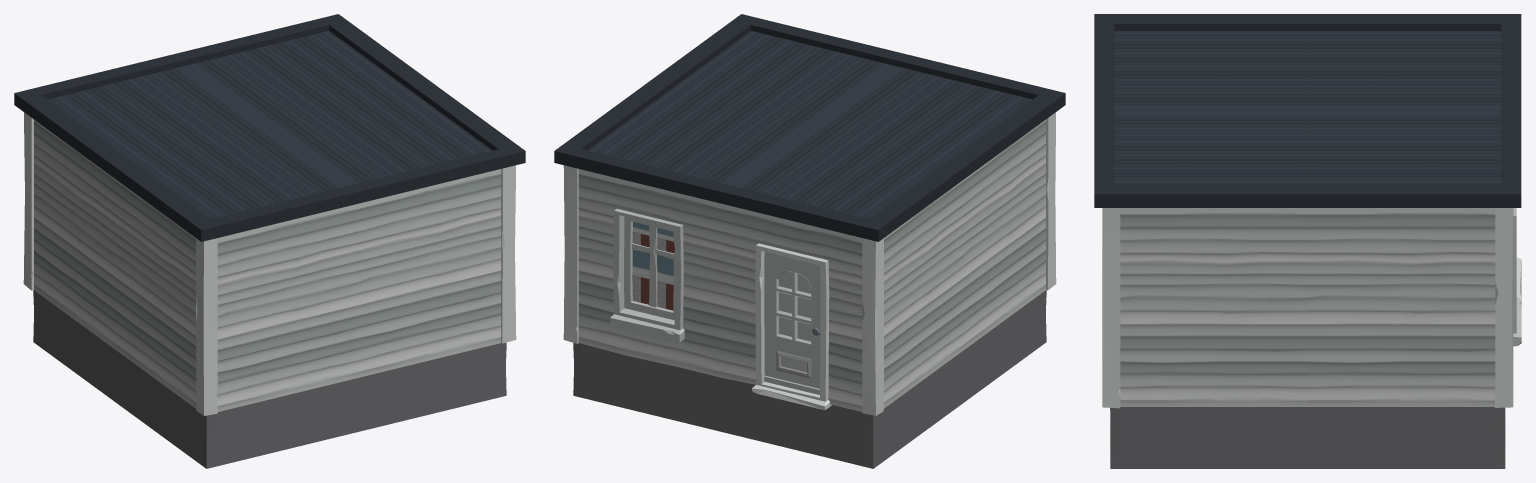
The model's file is NeighbourHouse.obj.
3 renders of one model, left to right at view 1: azimuth 30°, elevation 25°; view 2: azimuth 150°, elevation 25°; view 3: azimuth 270°, elevation 25°, orthographic. The views are drawn at different scales.
Visible parts, largest first — view 1: NeighbourHouse; view 2: NeighbourHouse; view 3: NeighbourHouse.
Part boxes in pixels (bbox=[...]): NeighbourHouse: bbox=[14, 14, 525, 468]; NeighbourHouse: bbox=[554, 14, 1065, 468]; NeighbourHouse: bbox=[1094, 14, 1521, 468].
Bounding box in the file's own units: 5.7 × 4.15 × 5.71.
Materials: 1 (1 with a texture image).
